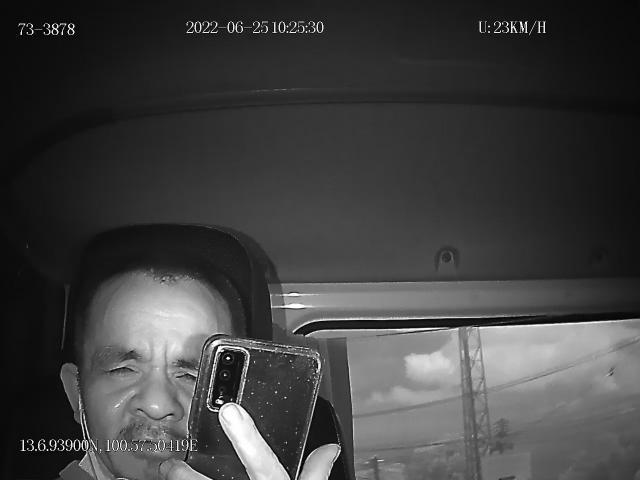PhoneUse: (185, 332, 322, 480)
SafeDriving: (94, 352, 144, 385), (164, 358, 202, 389)
